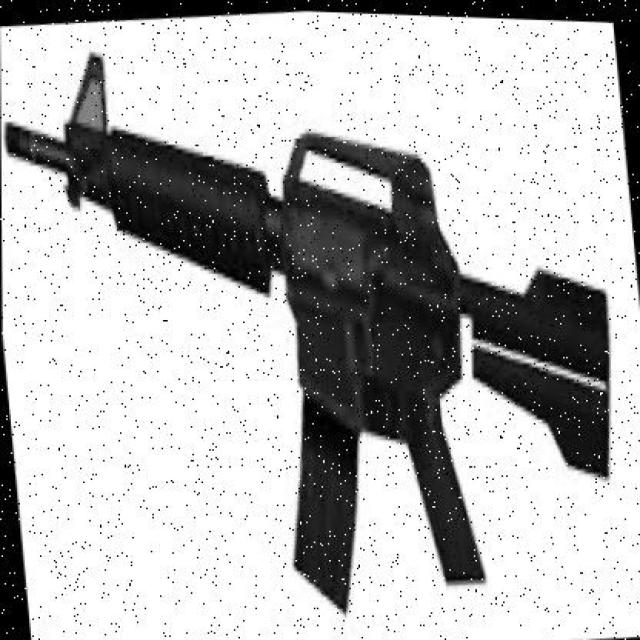weapon: (7, 52, 611, 616)
